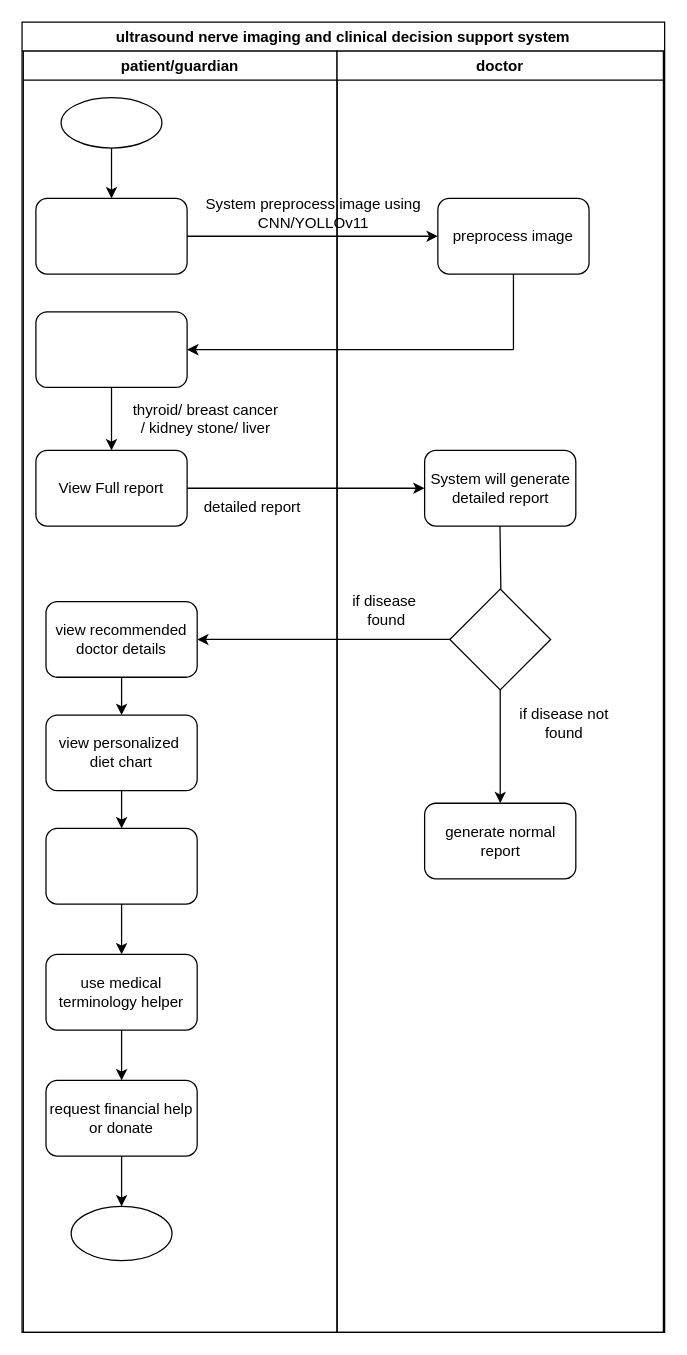
Image size: 687x1355. Some labels were removed from this diagram. Each missing label, with the box of its shape:
access yoga/ exercise videos: (45, 827, 197, 904)
End: (70, 1205, 172, 1261)
Start: (60, 96, 162, 148)
Upload ultrasound image: (35, 197, 187, 274)
View Detection Result: (35, 311, 187, 387)
